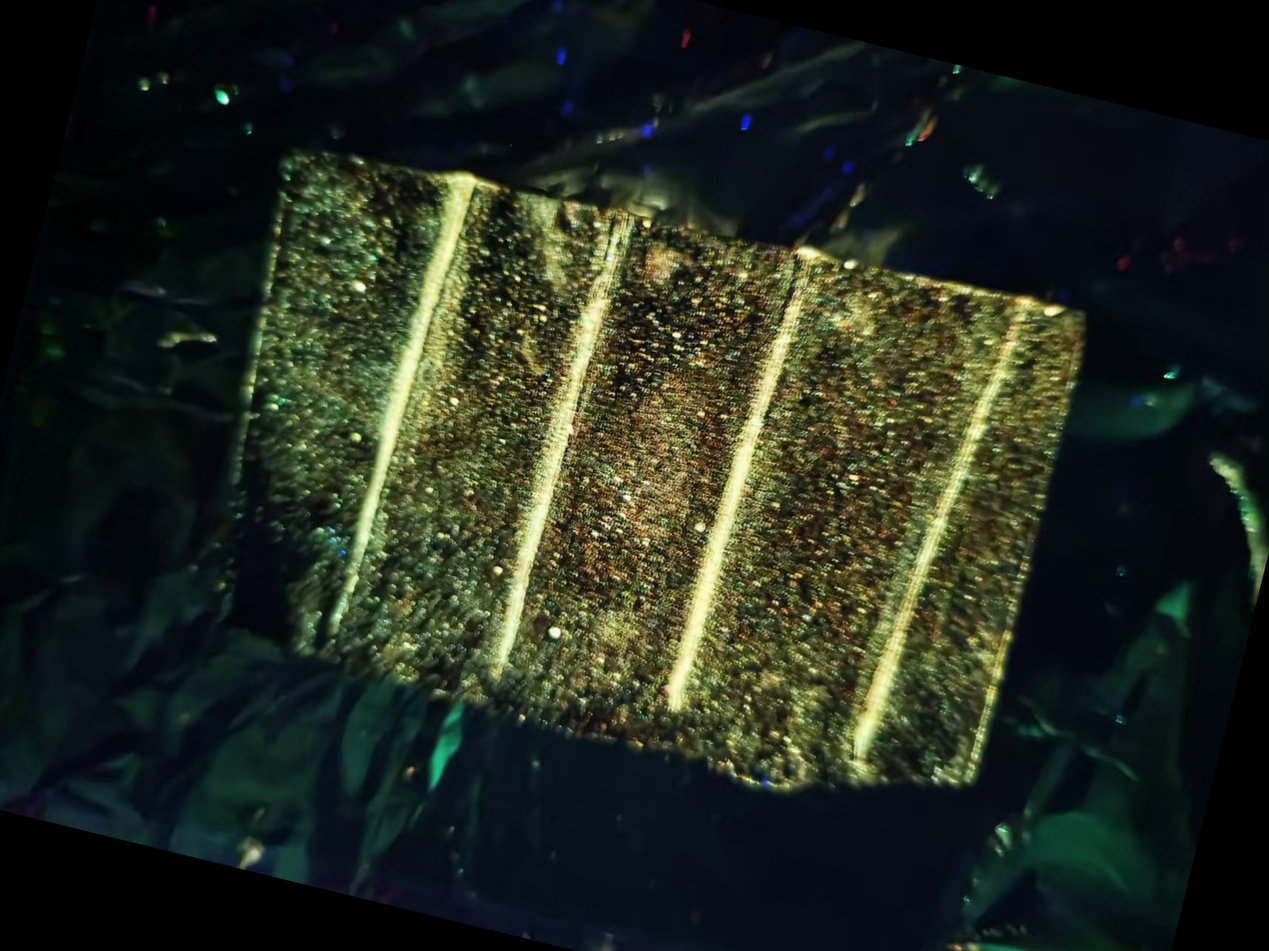Fissure: (821, 278, 1058, 795), (453, 191, 674, 704), (292, 158, 506, 662), (641, 251, 829, 732)
